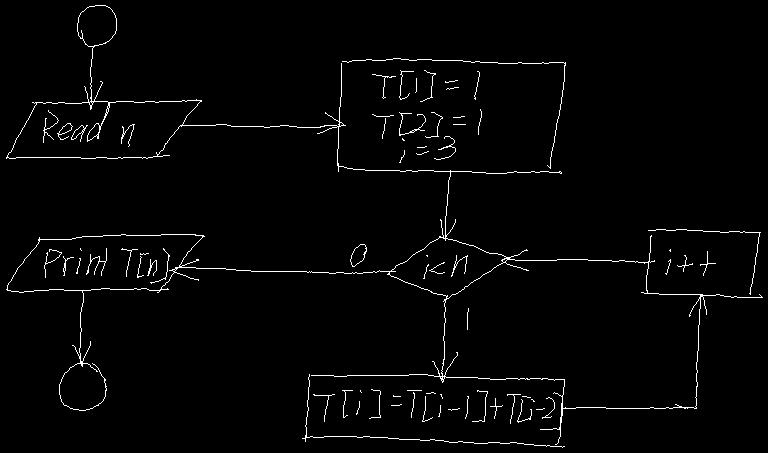arrow: (563, 294, 706, 408), (169, 259, 395, 280), (181, 112, 345, 133), (501, 249, 654, 270), (432, 297, 457, 382), (72, 290, 90, 366), (84, 45, 102, 109), (440, 170, 455, 240)
connection: (59, 363, 106, 410), (77, 5, 116, 46)
data: (6, 99, 201, 158), (6, 234, 204, 292)
decision: (387, 236, 509, 301)
process: (337, 58, 565, 173), (302, 374, 564, 447), (641, 229, 762, 297)
text: (372, 70, 481, 162), (313, 389, 562, 429), (44, 248, 169, 283), (43, 103, 134, 146), (665, 249, 715, 275), (423, 255, 467, 278), (350, 244, 366, 266), (466, 308, 469, 329)
